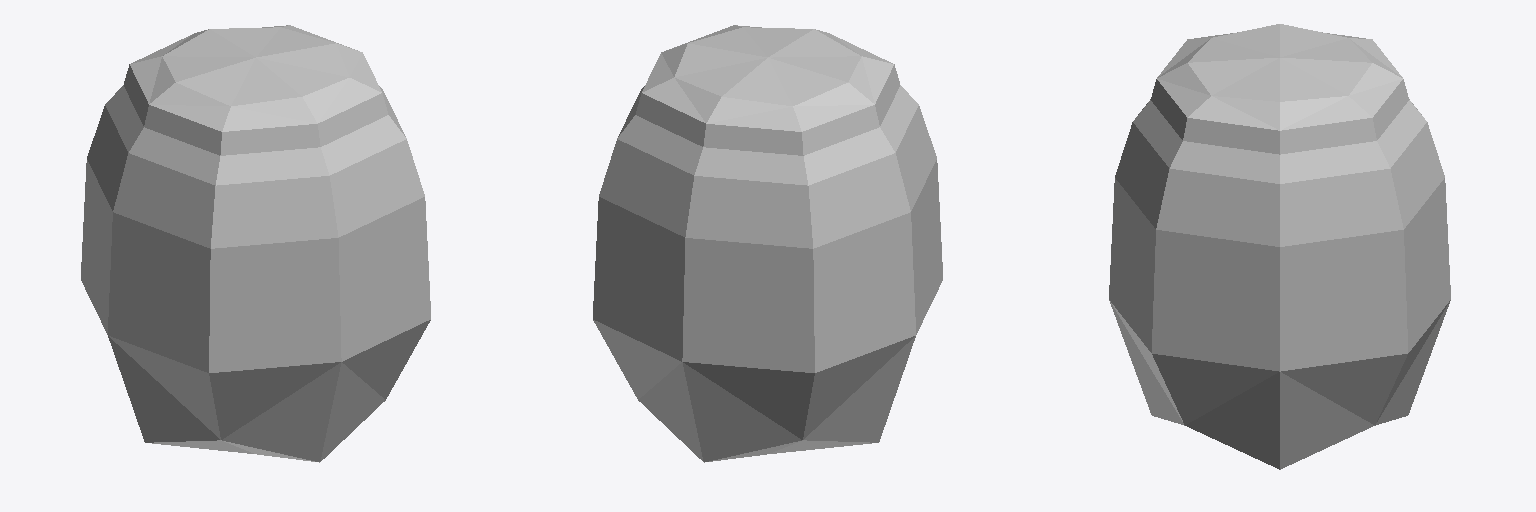
The model's file is triangles.obj.
The picture shows the model from 3 angles: view 1: azimuth 30°, elevation 25°; view 2: azimuth 150°, elevation 25°; view 3: azimuth 270°, elevation 25°; orthographic projection.
Parts seen in each view (by area): view 1: Cube; view 2: Cube; view 3: Cube.
Part boxes in pixels (x1,y1,x2,y2): Cube: (81, 25, 430, 462); Cube: (593, 25, 942, 462); Cube: (1109, 24, 1450, 469).
Bounding box in the file's own units: 2 × 2.56 × 2.